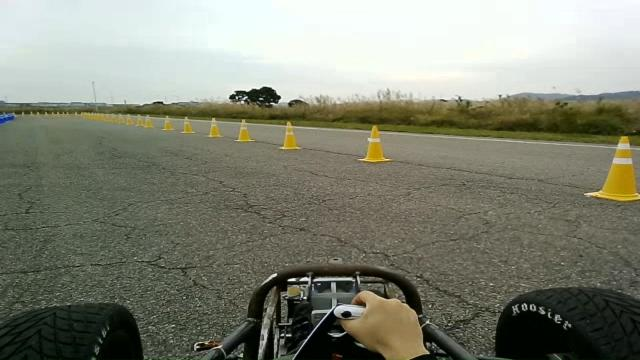blue cone: (0, 111, 15, 124)
yellow cone: (583, 135, 639, 202), (357, 125, 393, 162), (278, 121, 302, 150), (233, 118, 255, 142), (205, 117, 223, 137), (180, 116, 196, 133), (161, 115, 175, 130), (142, 114, 154, 128), (124, 114, 134, 125), (116, 113, 125, 124), (135, 116, 144, 126), (80, 112, 90, 120), (98, 113, 105, 121)
